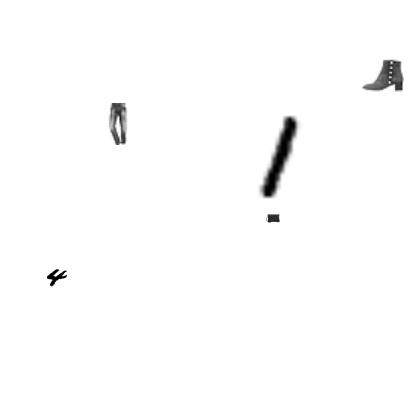1: (224, 101, 336, 213)
4: (42, 262, 70, 290)
Ankle_boot: (362, 54, 404, 96)
Bag: (266, 211, 280, 225)
Trouser: (97, 103, 139, 145)
